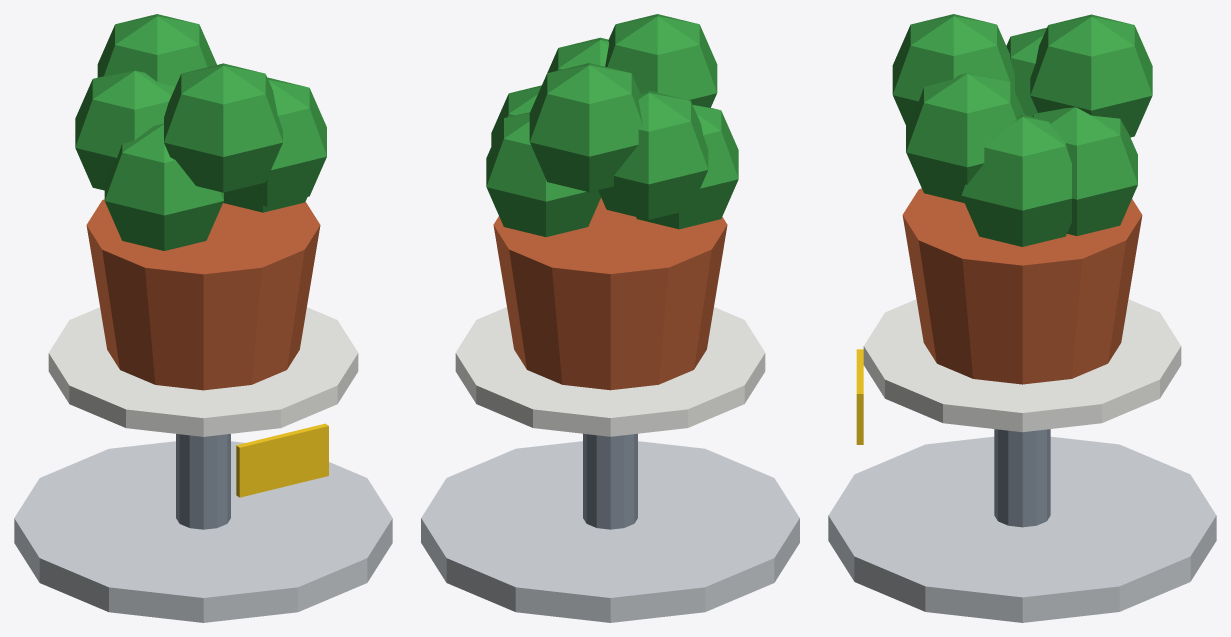
Rendered from item-potted_fern.glb.
The picture shows the model from 3 angles, left to right: view 1: azimuth 30°, elevation 25°; view 2: azimuth 150°, elevation 25°; view 3: azimuth 270°, elevation 25°; orthographic projection. The views are drawn at different scales.
Parts seen in each view (by area): view 1: item-potted_fern; view 2: item-potted_fern; view 3: item-potted_fern.
Part boxes in pixels (box(x1,y1,x2,y2)): item-potted_fern: box(14, 14, 392, 622); item-potted_fern: box(421, 14, 799, 622); item-potted_fern: box(828, 14, 1216, 622).
Size of the model in its own units: 1.1 by 1.62 by 1.1.
